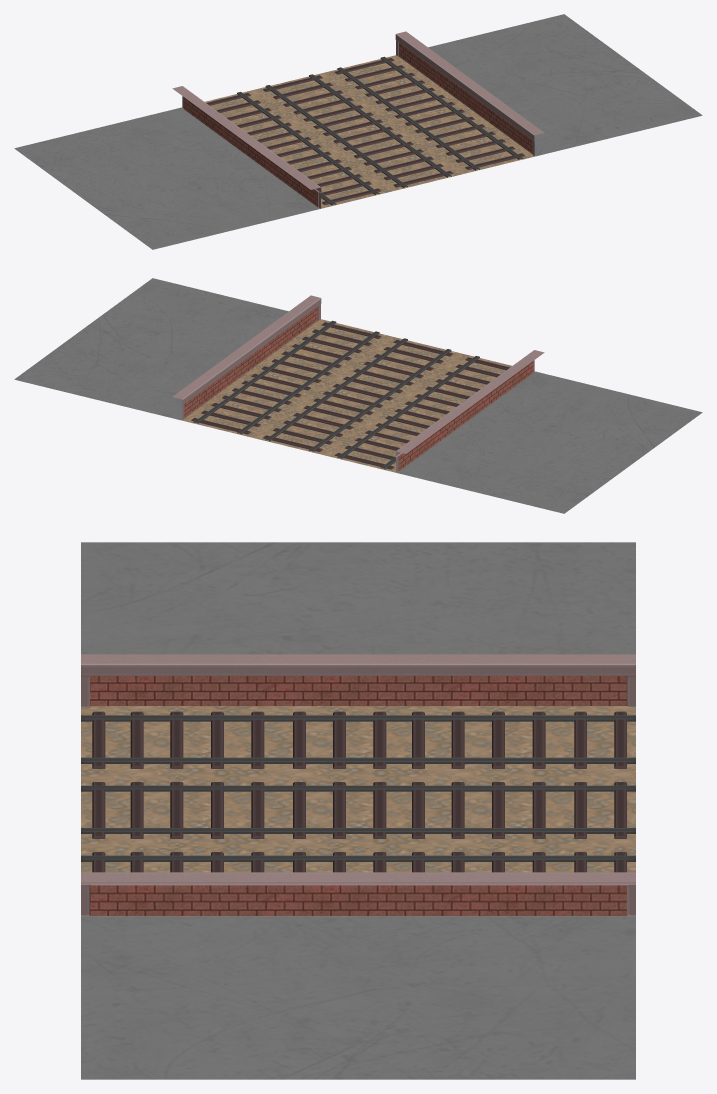
The model's file is road01.fbx.
3 renders of one model, top to bottom at view 1: azimuth 30°, elevation 25°; view 2: azimuth 150°, elevation 25°; view 3: azimuth 270°, elevation 25°, orthographic. The views are drawn at different scales.
Parts seen in each view (by area): view 1: Road01; view 2: Road01; view 3: Road01.
Part boxes in pixels (x1,y1,x2,y2): Road01: (14, 14, 702, 249); Road01: (14, 278, 702, 513); Road01: (81, 542, 635, 1079).
Size of the model in its own units: 2062 by 76.22 by 900.
